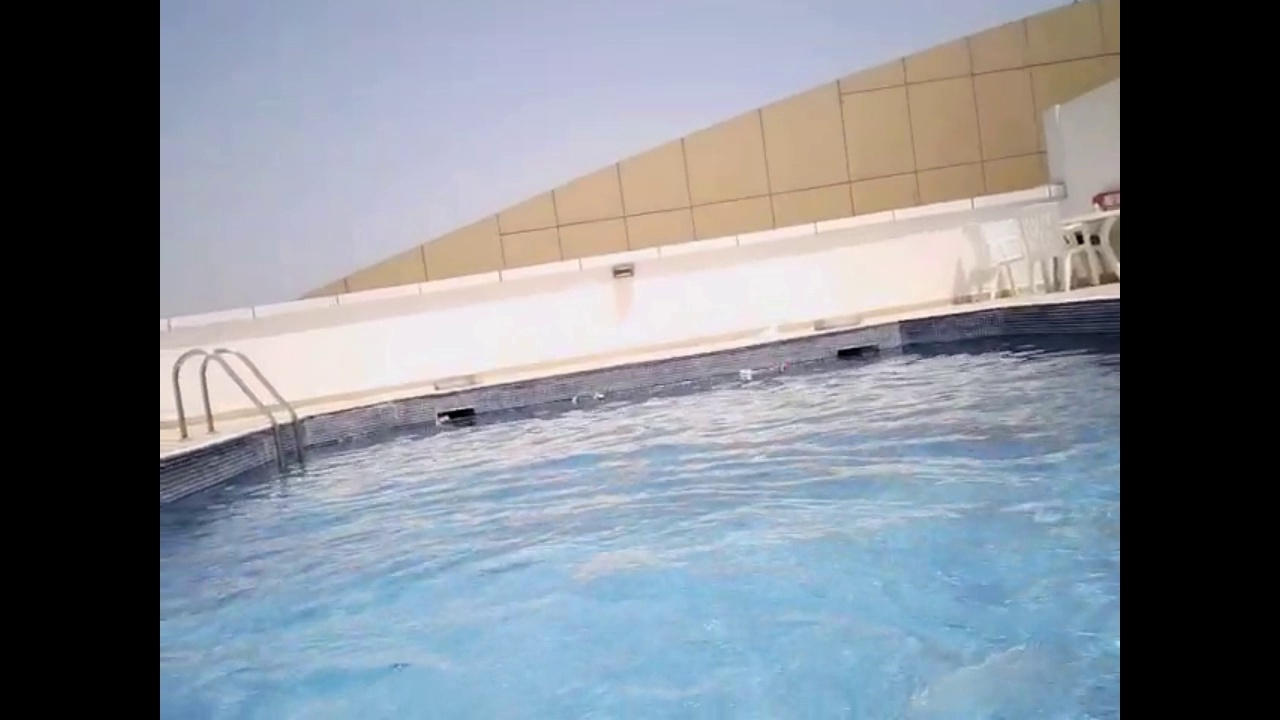debris: (432, 413, 455, 431), (566, 391, 586, 411), (734, 364, 757, 379), (586, 390, 610, 404), (772, 358, 790, 376)
